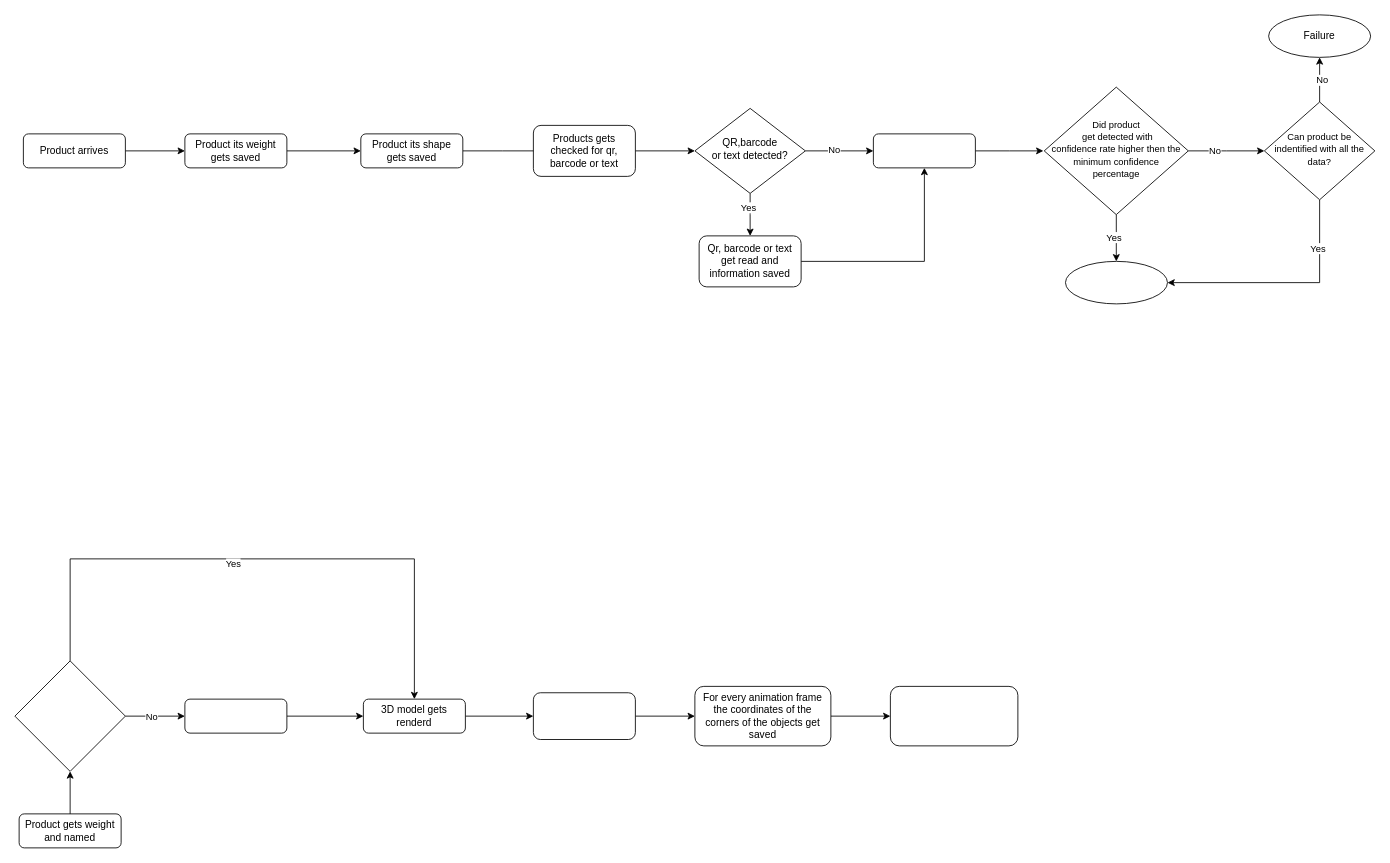
The diagram is 1390 pixels wide and 863 high, and some of its shapes have lost their labels. The shapes that lost their labels are listed below. From the top down, each one's centre as x and y in pixels, then its label:
At [924,150]: "Product gets checked by computer vision".
At [1116,282]: "Succes".
At [69,715]: "Is there a 3D model file of the product?".
At [235,715]: "Product gets 3D scanned".
At [584,716]: "animation being made of the renderd object".
At [954,716]: "Data set gets created with frame images and bounding box data".
